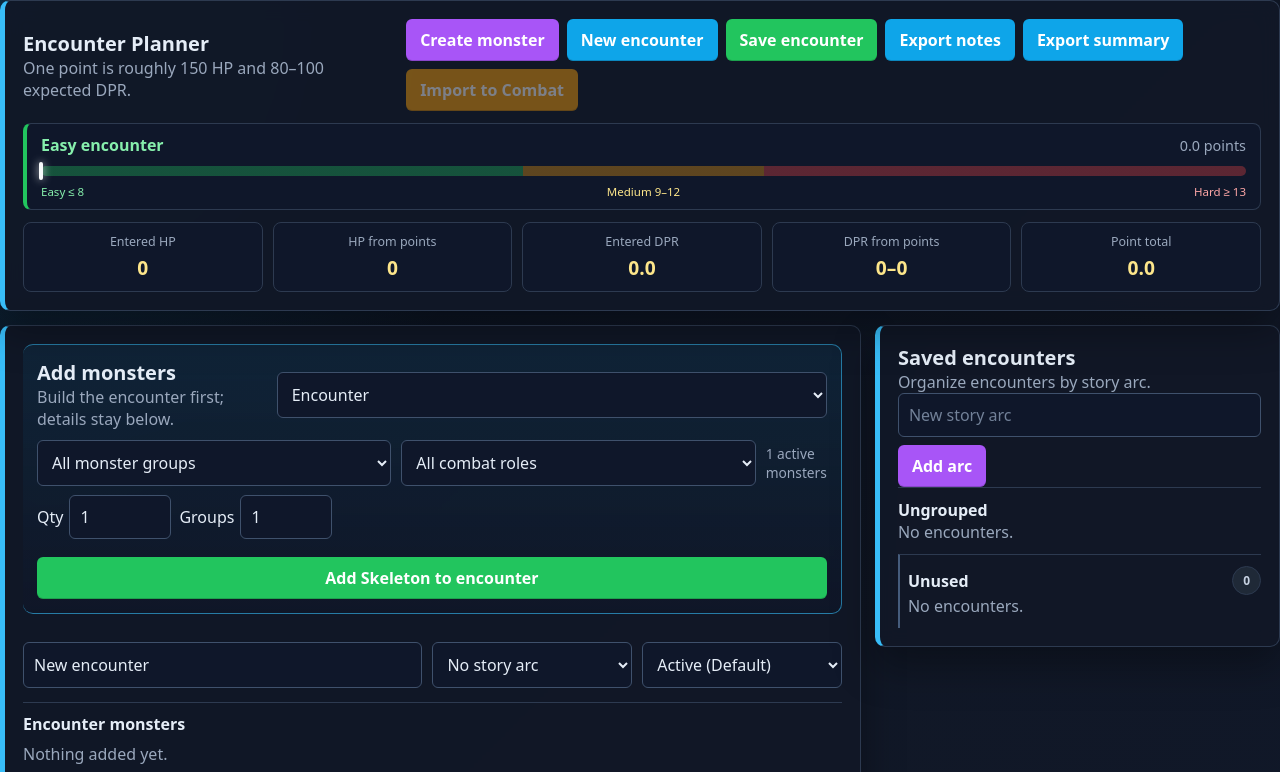
Test: encounter planner › organizes identical monsters into shared-initiative groups in the Encounter Planner
The width and height of the screenshot is (1280, 772).
Later steps or results of the test are not shown.
Replace the text in the number field named "Add quantity" with "6" at {"x": 120, "y": 517}, box [69, 495, 171, 539]
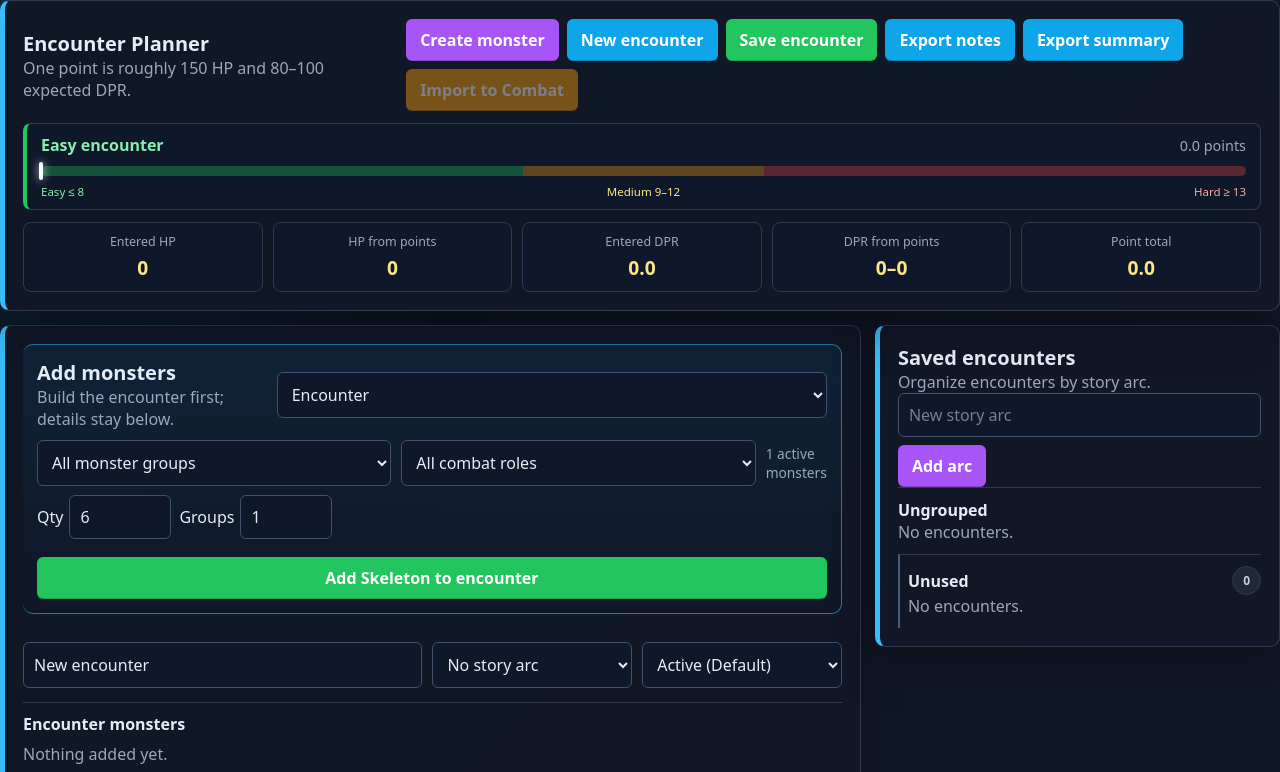
Replace the text in the number field named "Add groups" with "2" at {"x": 286, "y": 517}, box [240, 495, 332, 539]
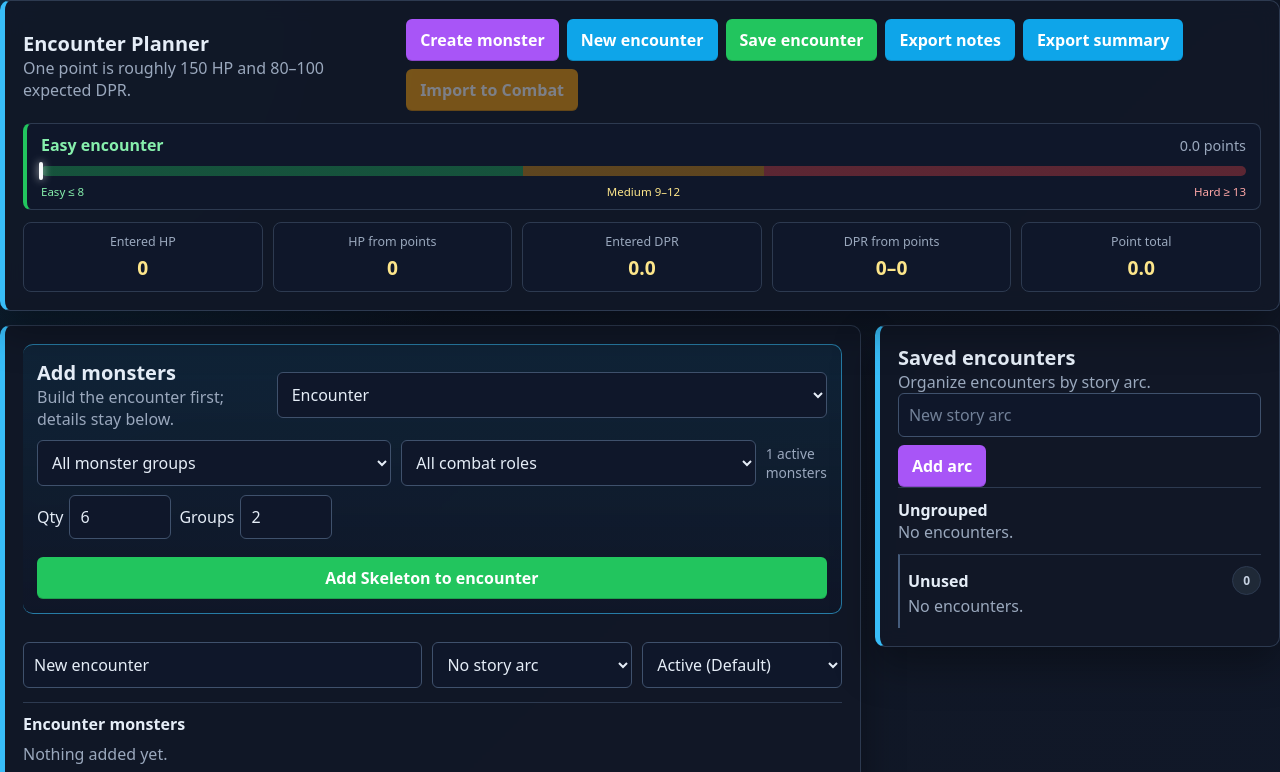
Click the button "Add Skeleton to encounter" at {"x": 432, "y": 578}, box [37, 557, 827, 599]
(page scrolled)
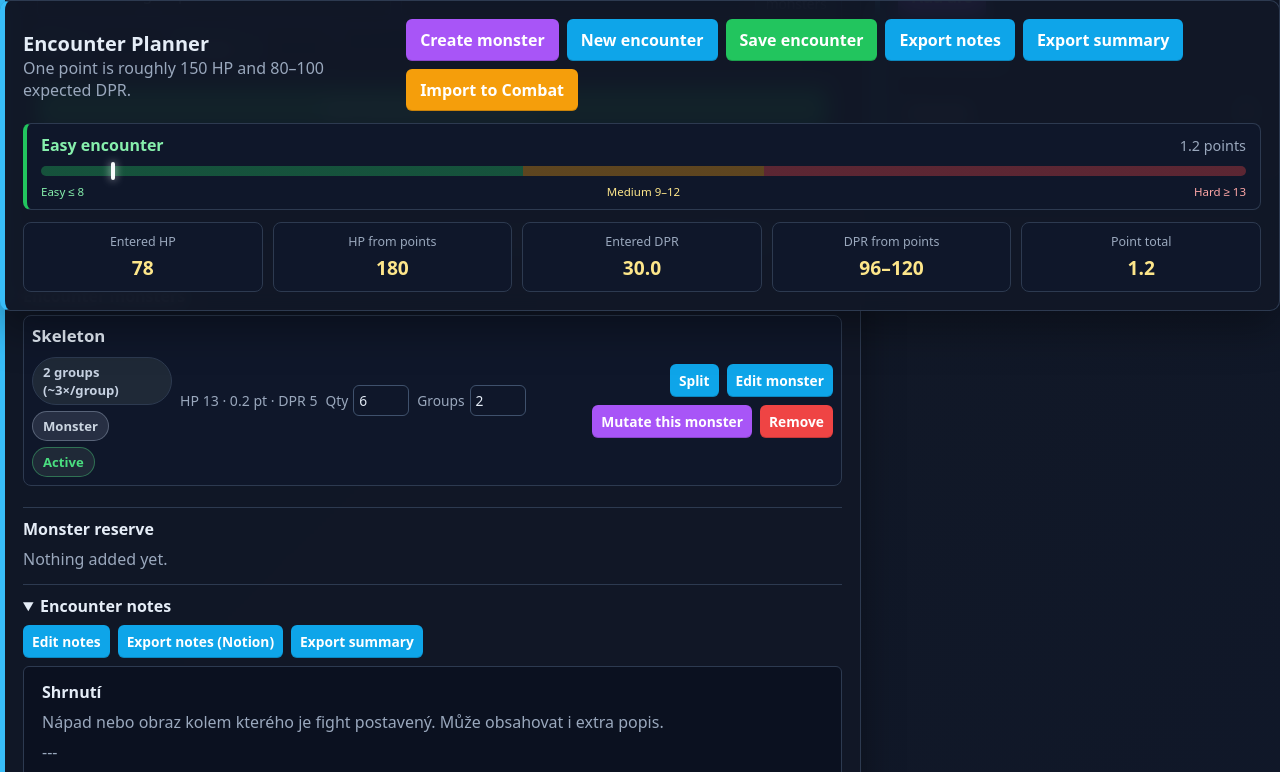
Expected: the text "2 groups (~3×/group)" is shown, [32, 357, 172, 405]
Replace the text in the number field named "Skeleton groups" with "1" at {"x": 498, "y": 400}, box [470, 385, 526, 416]
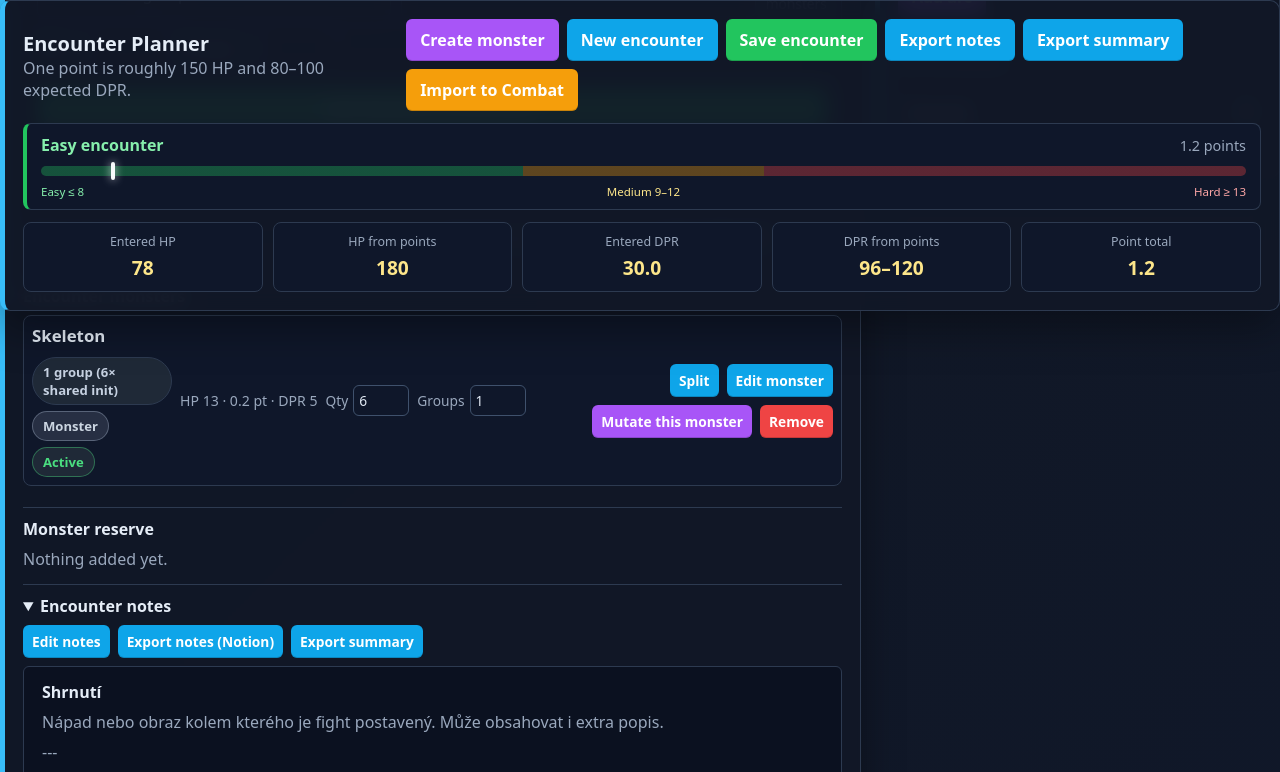
Expected: the text "1 group (6× shared init)" is shown, [32, 357, 172, 405]
